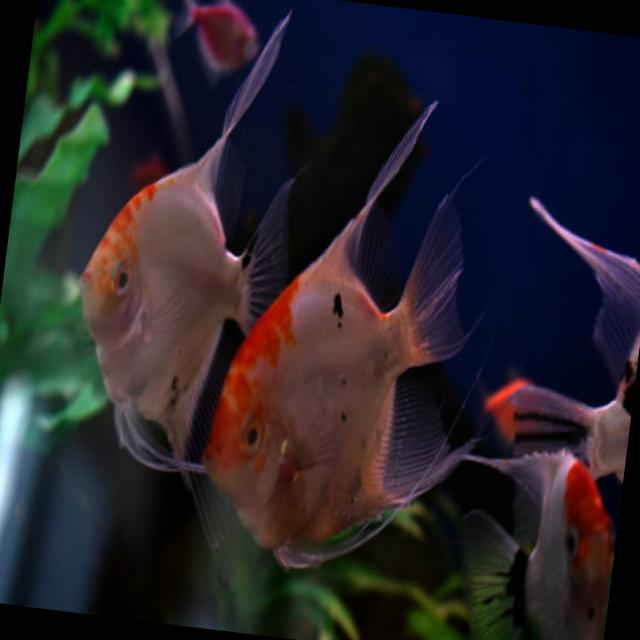AngelFish: (193, 78, 500, 590), (60, 0, 320, 493), (440, 438, 625, 640)
